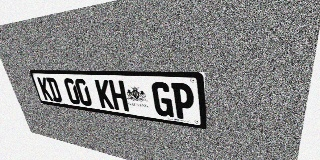0: (74, 79, 93, 107), (63, 78, 81, 105)
D: (46, 77, 63, 102)
G: (151, 82, 174, 118)
H: (108, 80, 129, 112)
K: (94, 79, 114, 109), (37, 77, 54, 101)
P: (171, 83, 195, 121)
